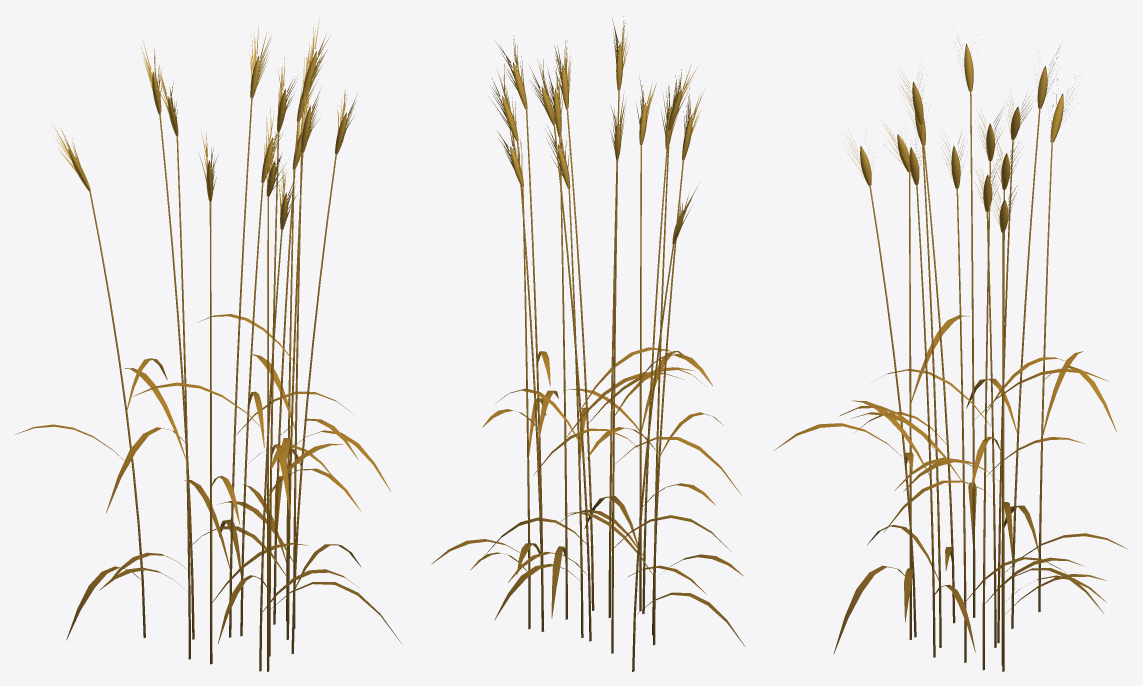
File: earth_wheat.glb
The picture shows the model from 3 angles, left to right: view 1: azimuth 30°, elevation 25°; view 2: azimuth 150°, elevation 25°; view 3: azimuth 270°, elevation 25°; orthographic projection. The views are drawn at different scales.
Visible parts, largest first — view 1: Wheat_A_LOD0; view 2: Wheat_A_LOD0; view 3: Wheat_A_LOD0.
Boxes of the visible parts, x1=… form: Wheat_A_LOD0: x1=15, y1=18, x2=401, y2=671; Wheat_A_LOD0: x1=431, y1=16, x2=745, y2=671; Wheat_A_LOD0: x1=774, y1=34, x2=1128, y2=671.
Bounding box in the file's own units: 0.4524 × 0.9 × 0.483.
